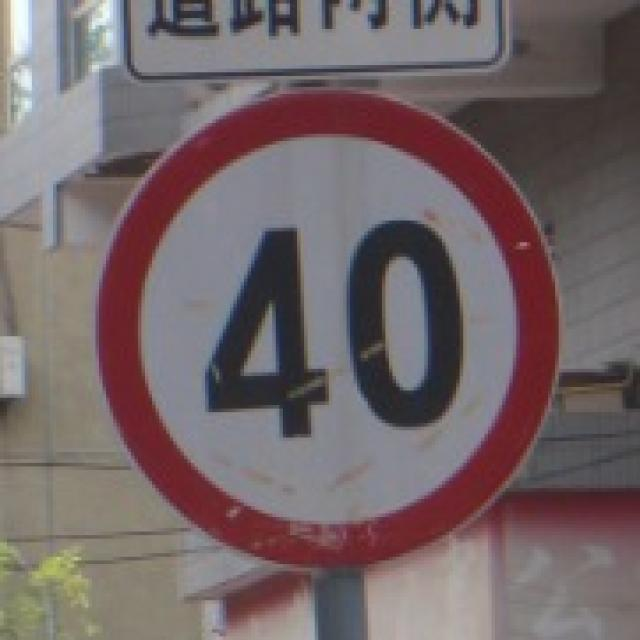Speed Limit -40-: (196, 215, 474, 442)
